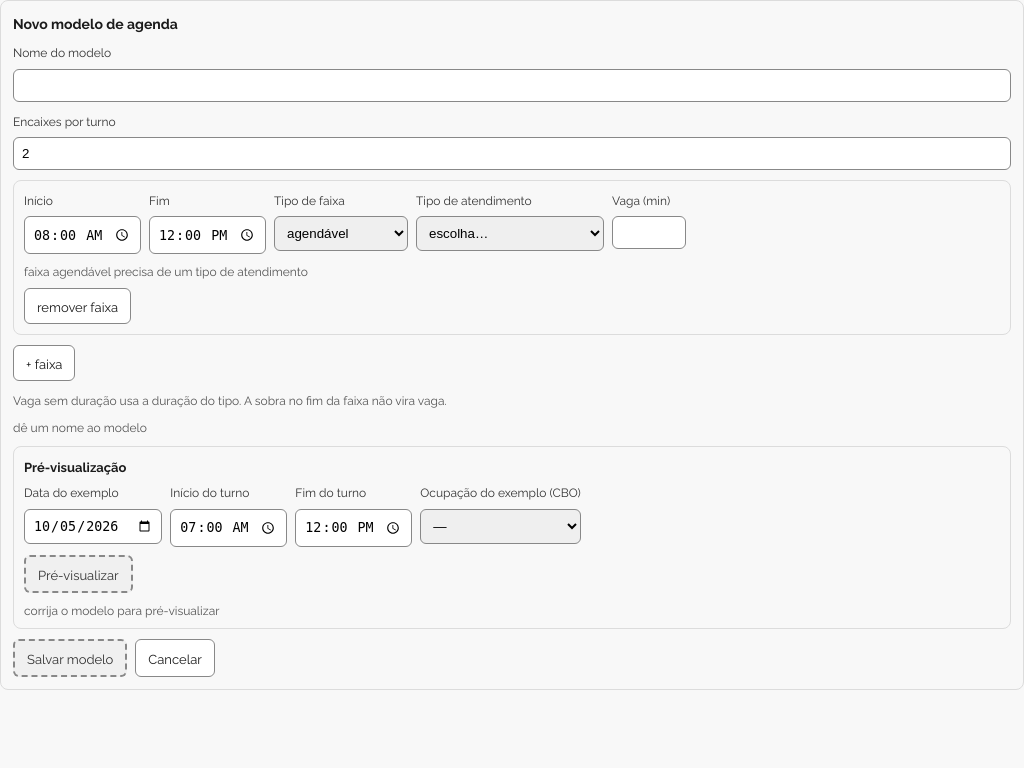
Test: TemplateEditor › modelo novo: cria com nome, limite e faixas; 422 invalid_blocks mostra o detalhe
Expected: the button "Salvar modelo" is disabled, [13,639,127,677]
Step 1. Type "Tarde" into the field labelled "Nome do modelo" → (512, 85), box [13,69,1011,102]
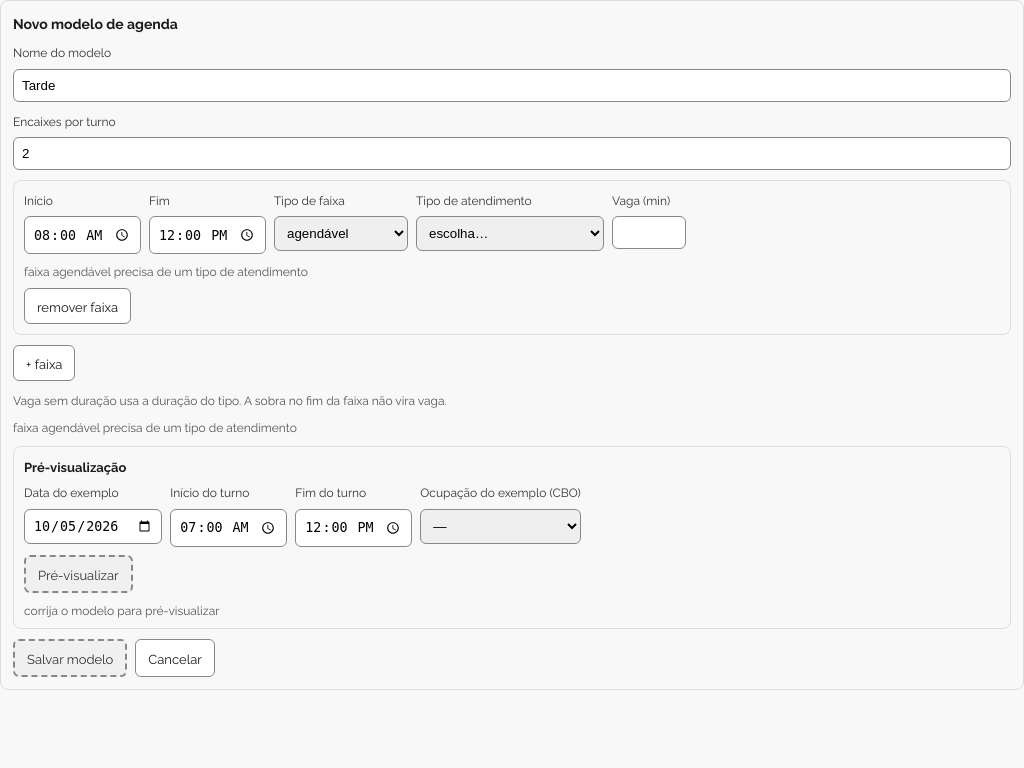
Step 2. Select "Consulta de enfermagem" in the dropdown labelled "Tipo de atendimento" → (510, 234), box [416,216,604,252]
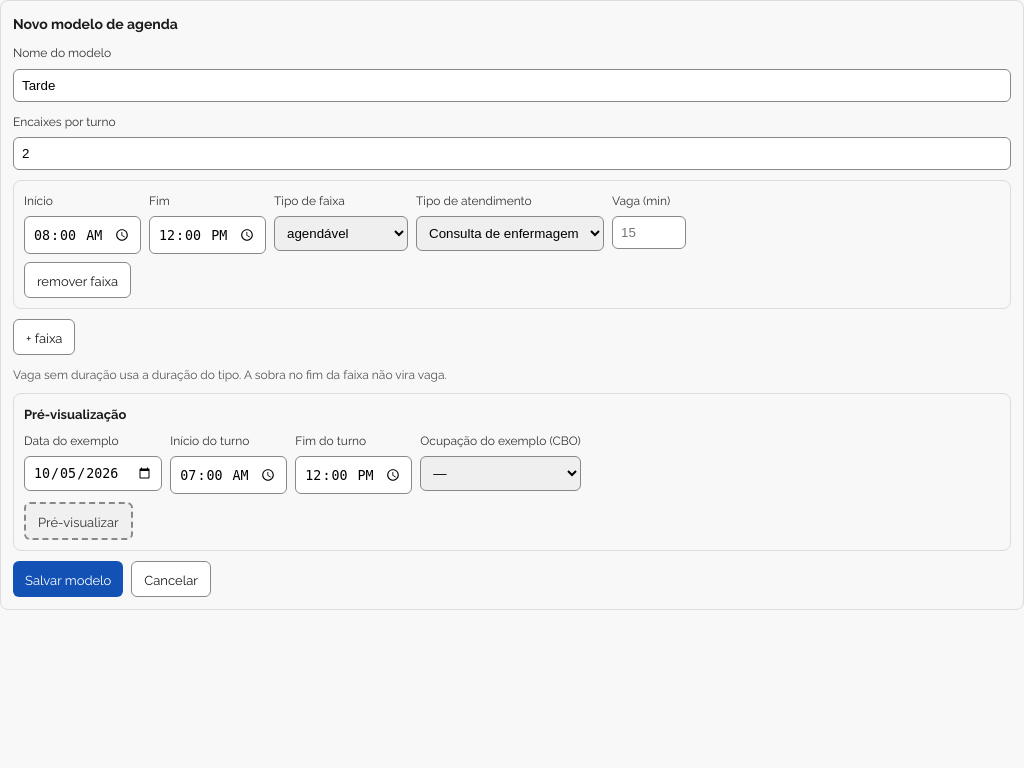
Step 3. Replace the text in the field labelled "Encaixes por turno" with "3" → (512, 154), box [13,137,1011,170]
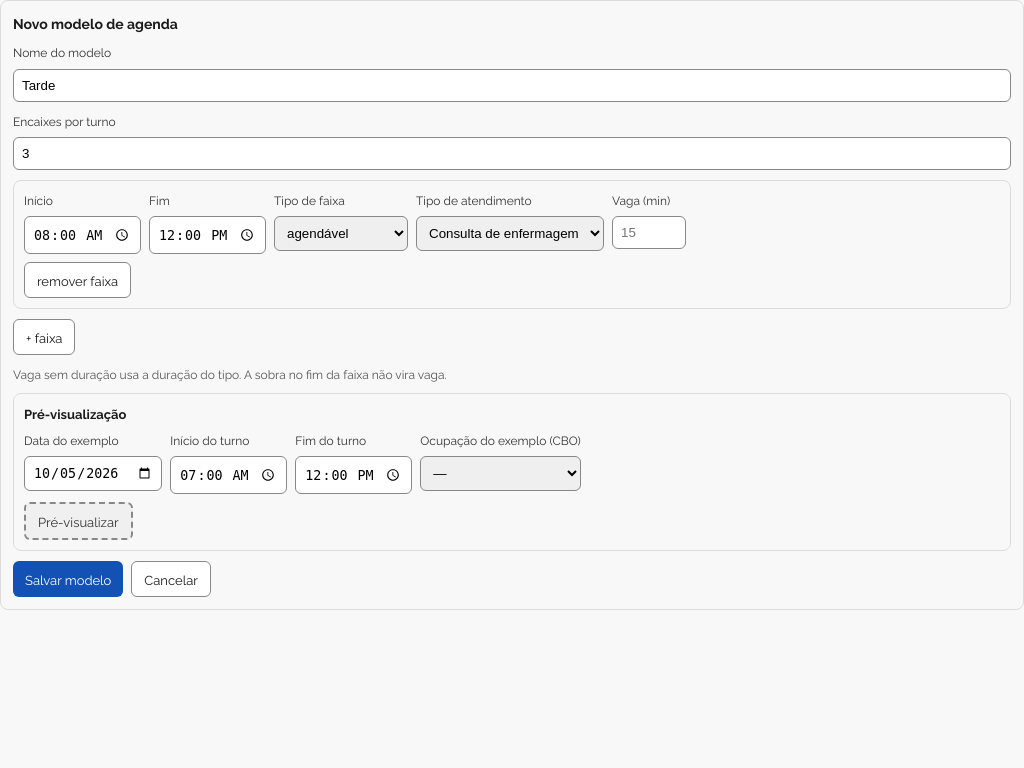
Step 4. Click the button "Salvar modelo" → (68, 579), box [13,561,123,597]
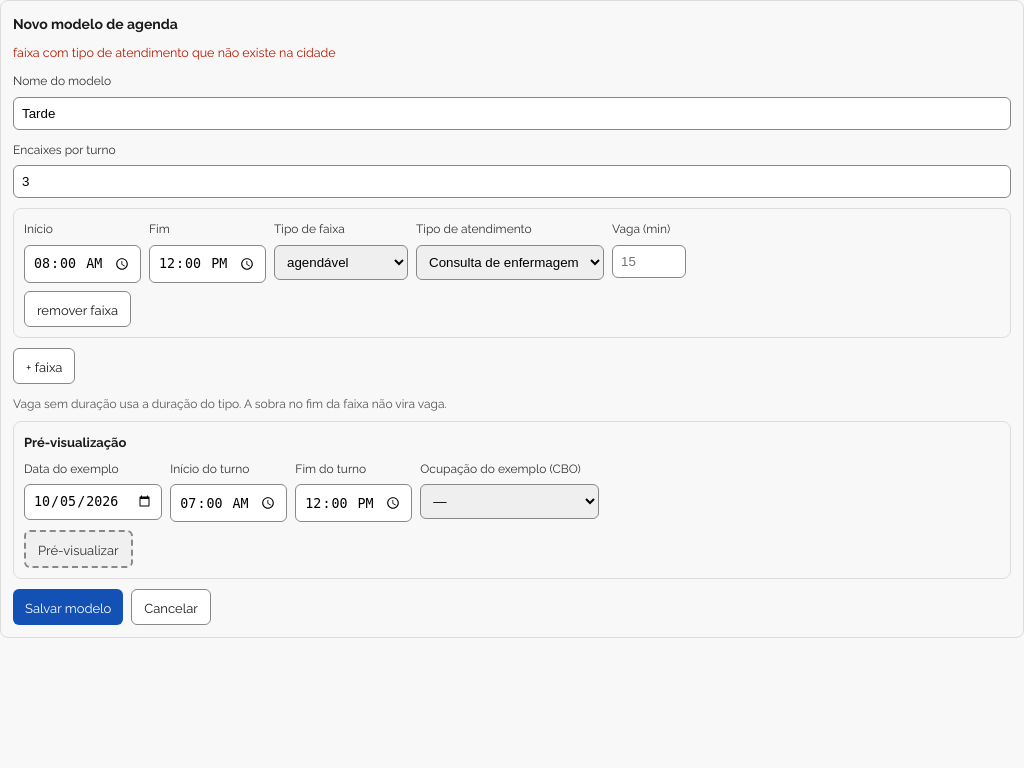
Now the text "faixa com tipo de atendimento que não existe na cidade" is shown, box [13,43,336,60]
